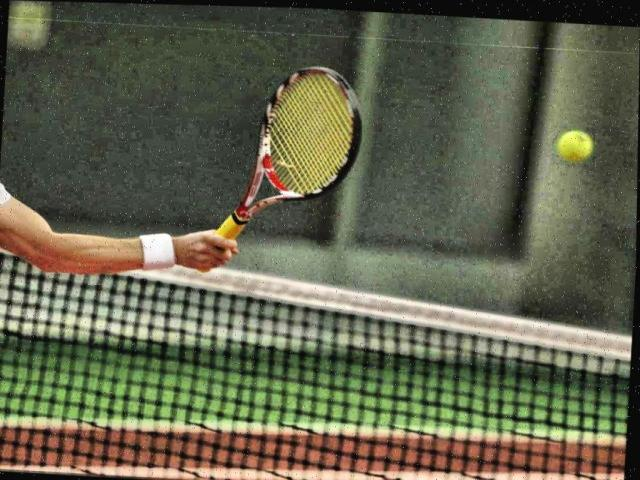tennis-ball: (555, 130, 593, 163)
